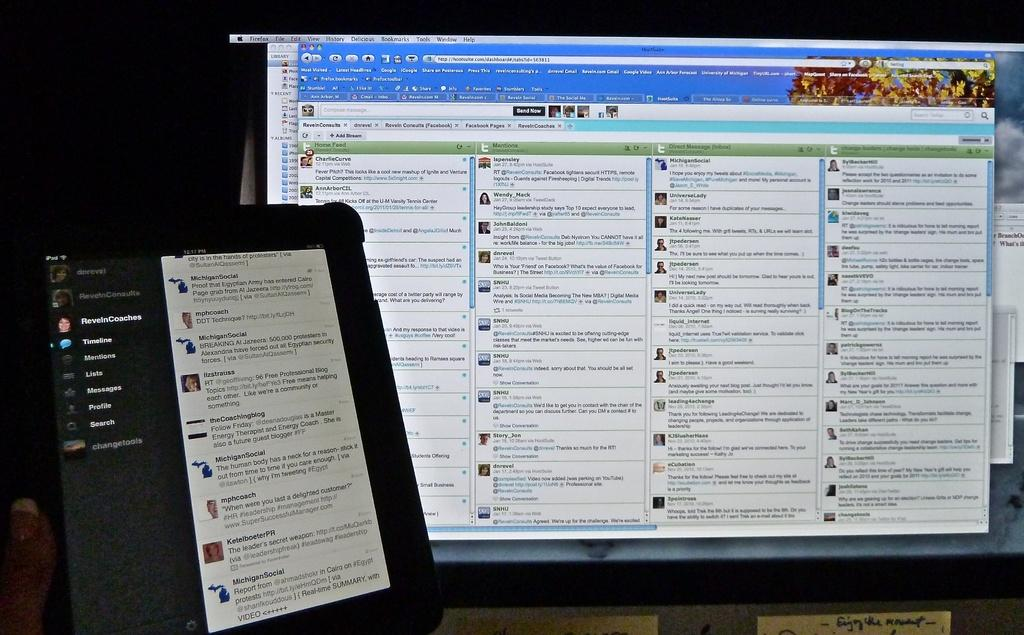Computer-monitor: (224, 1, 1023, 598), (19, 197, 433, 634)
